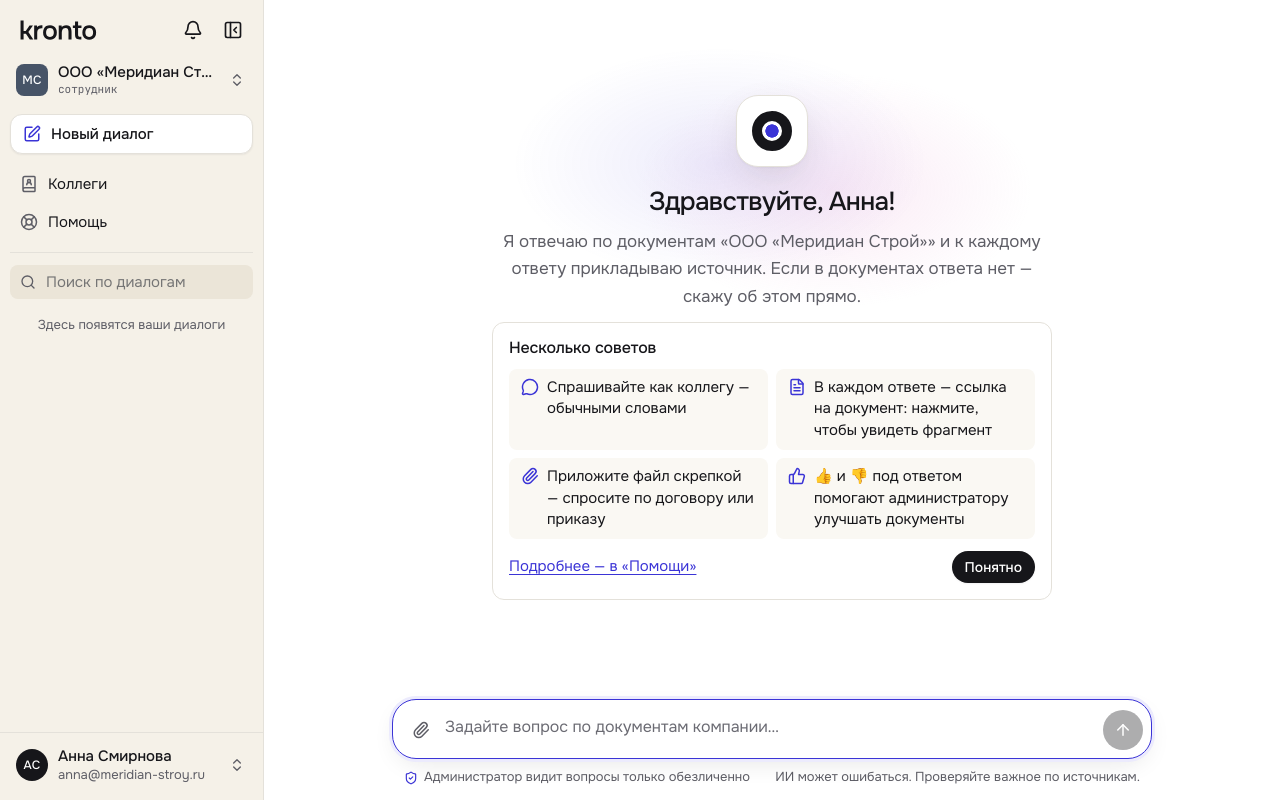
Test case: подсказки сотруднику › не сохранилось — советы возвращаются с сообщением об ошибке
Click the button "Понятно".
click(993, 567)  # box [952,551,1035,583]
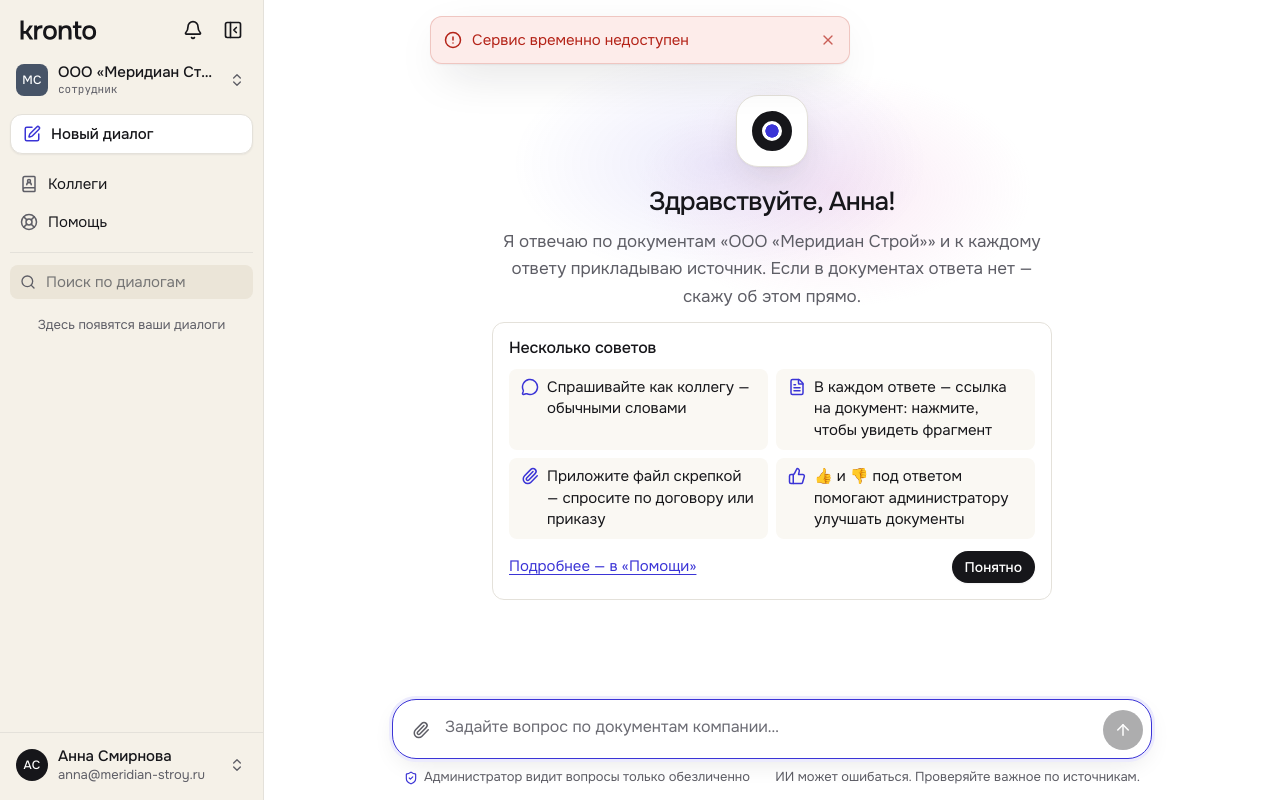
Expected: the element "Несколько советов" is shown, [492,322,1052,600]
Expected: the text "Сервис временно недоступен" is shown, [472,30,689,50]
